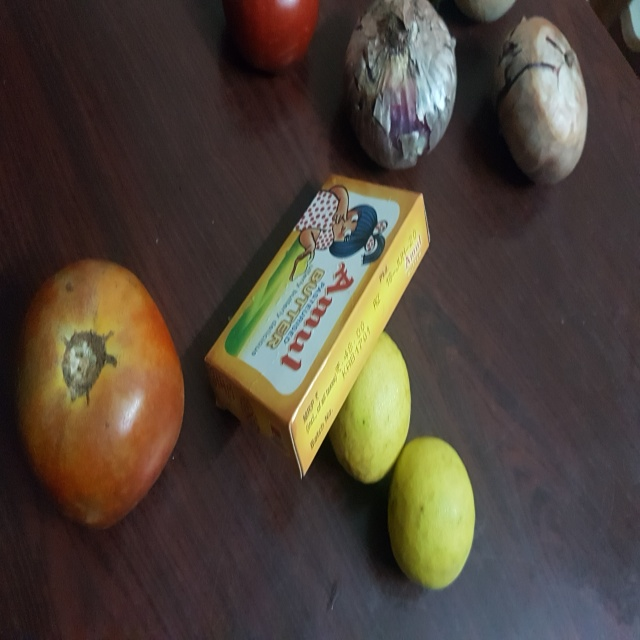butter: (194, 177, 436, 477)
